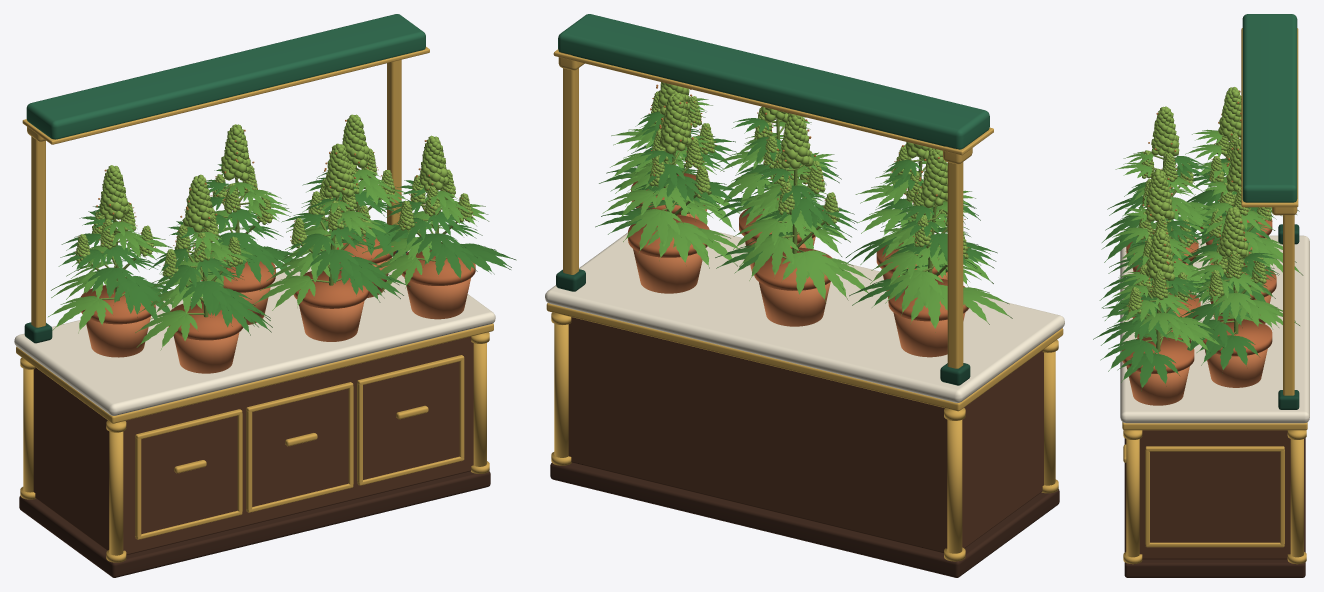
Rendered from grow_bench.glb.
The picture shows the model from 3 angles, left to right: view 1: azimuth 30°, elevation 25°; view 2: azimuth 150°, elevation 25°; view 3: azimuth 270°, elevation 25°; orthographic projection. The views are drawn at different scales.
Visible parts, largest first — view 1: Body, Top, LightBar, Plinth, Drawer2, Drawer0, Drawer1, TopBand, Post-1, Post1, LightBarTrim, P4Pot (+34 smaller); view 2: Body, Top, LightBar, Plinth, TopBand, Post-1, Post1, LightBarTrim, P2Pot, P1Pot, Column-11, Column11 (+21 smaller); view 3: EndPanel, Top, LightBar, Body, Plinth, Post1, Column1-1, Column11, P5Pot, P2Pot, TopBand, P4Cola (+47 smaller).
Boxes of the visible parts, x1,y1,x2,y2 form: Body: (33, 336, 473, 555); Top: (14, 251, 495, 415); LightBar: (26, 14, 425, 139); Plinth: (19, 471, 490, 577); Drawer2: (363, 361, 459, 479); Drawer0: (141, 415, 237, 533); Drawer1: (252, 388, 348, 506); TopBand: (16, 323, 493, 423); Post-1: (31, 136, 45, 327); Post1: (387, 59, 401, 225); LightBarTrim: (22, 47, 429, 144); P4Pot: (299, 300, 364, 341); Body: (568, 317, 1043, 553); Top: (545, 230, 1064, 402); LightBar: (558, 14, 989, 149); Plinth: (550, 463, 1059, 577); TopBand: (546, 303, 1063, 411); Post-1: (947, 162, 963, 368); Post1: (563, 68, 578, 274); LightBarTrim: (553, 49, 993, 155); P2Pot: (633, 249, 702, 293); P1Pot: (759, 282, 830, 326); Column-11: (947, 420, 962, 553); Column11: (554, 324, 568, 457); EndPanel: (1150, 451, 1280, 542); Top: (1120, 235, 1309, 423); LightBar: (1242, 14, 1297, 202); Body: (1139, 430, 1290, 559); Plinth: (1124, 438, 1305, 577); Post1: (1283, 215, 1294, 395); Column1-1: (1126, 439, 1139, 557); Column11: (1290, 439, 1303, 557); P5Pot: (1126, 366, 1189, 405); P2Pot: (1204, 348, 1267, 387); TopBand: (1122, 422, 1307, 430); P4Cola: (1142, 169, 1177, 221).
Size of the model in its own units: 2.2 by 2.05 by 1.03.
